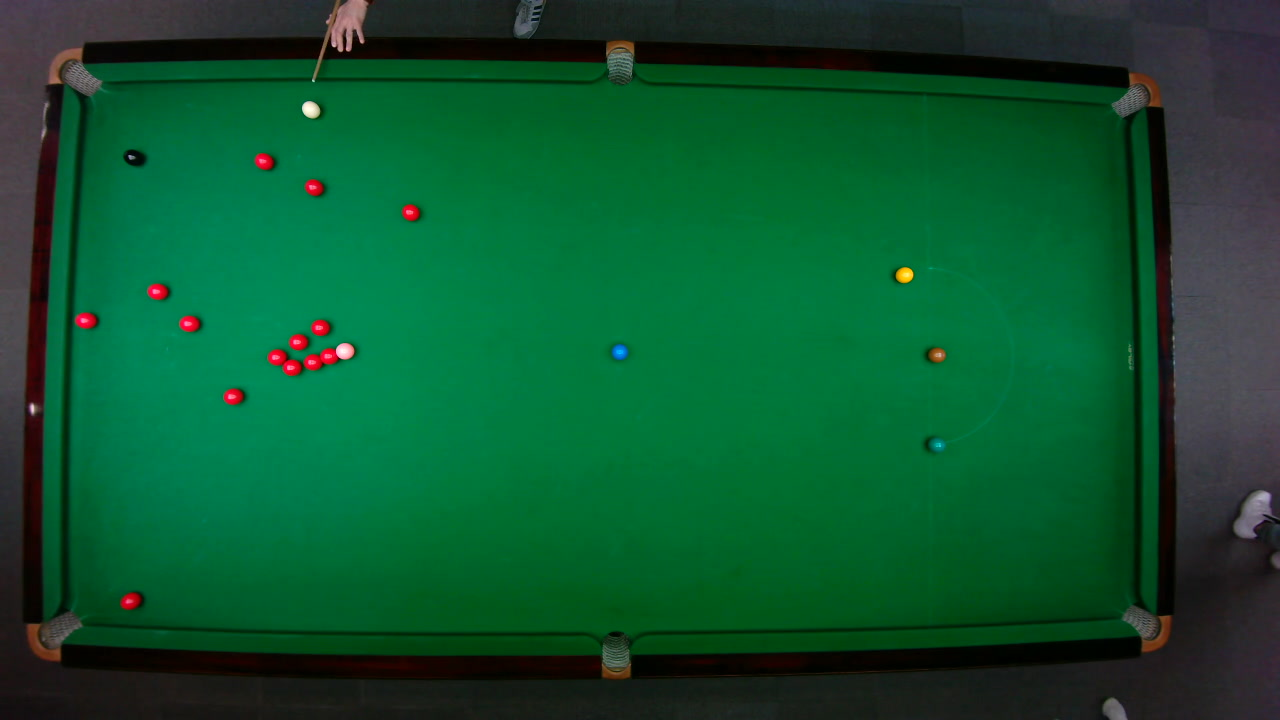bag: (24, 609, 83, 661), (45, 46, 102, 96), (1119, 603, 1171, 652), (1108, 71, 1161, 118), (601, 629, 630, 680), (605, 38, 633, 85)
black: (122, 148, 144, 166)
blue: (610, 342, 628, 360)
brown: (926, 346, 945, 362)
cue: (310, 0, 342, 81)
green: (926, 435, 946, 452)
pink: (334, 341, 355, 360)
red: (118, 590, 142, 610), (73, 310, 97, 328), (145, 282, 169, 300), (252, 151, 274, 170), (221, 386, 243, 405), (177, 314, 200, 332), (303, 177, 324, 196), (400, 202, 420, 221), (281, 358, 302, 376), (287, 332, 308, 350), (302, 352, 323, 370), (309, 318, 330, 336), (265, 348, 287, 365), (319, 346, 337, 365)
white: (300, 99, 321, 119)
yellow: (894, 265, 914, 283)
zone: (926, 266, 1013, 444)
